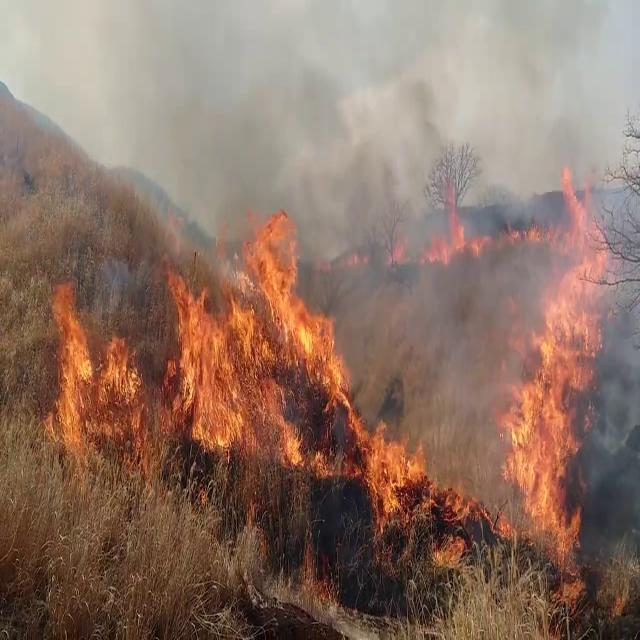Fire: (496, 160, 612, 588), (164, 201, 350, 462), (354, 412, 486, 570), (45, 277, 151, 451), (385, 202, 485, 270)
Smoke: (108, 8, 446, 242)
